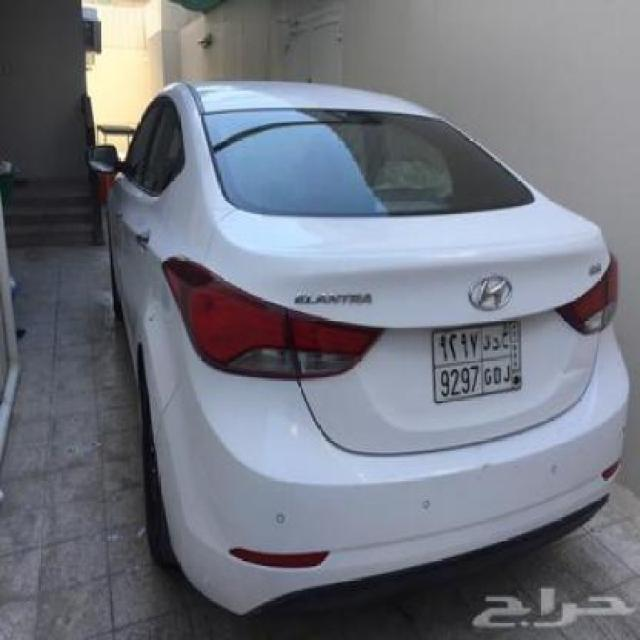license_plate: (430, 316, 524, 406)
